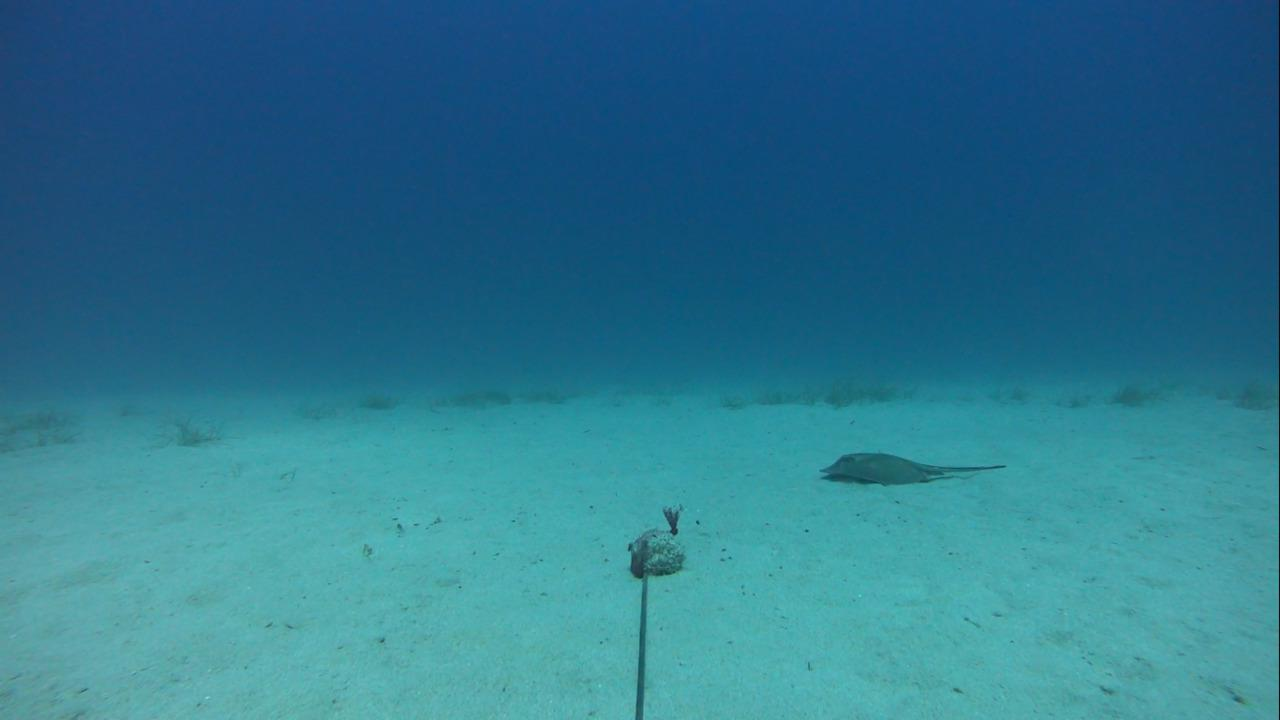myliobatis: (816, 445, 1004, 492)
